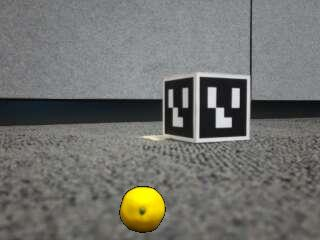lemon: (121, 187, 165, 232)
